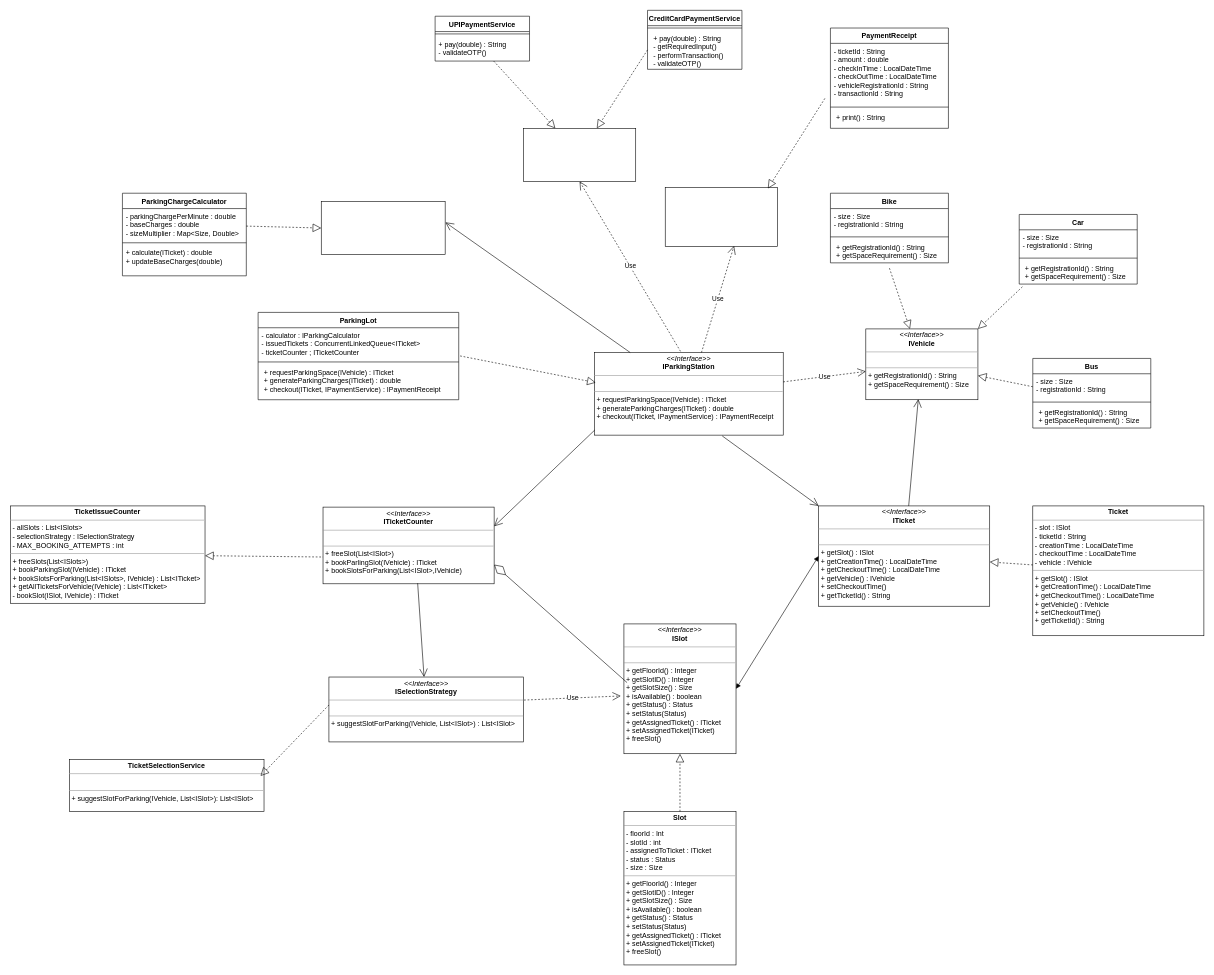
Some shapes in this 1214 by 975 pixel diagram are drawn without their labels. Each missing label, with the centre of its shape:
<<Interface>> IParkingCalculator + calculate(ITicket) : double: the point at 383,228
<<Interface>> IPaymentReceipt + print() : String: the point at 721,216
<<Interface>> IPaymentService + pay(double) : String: the point at 579,154
